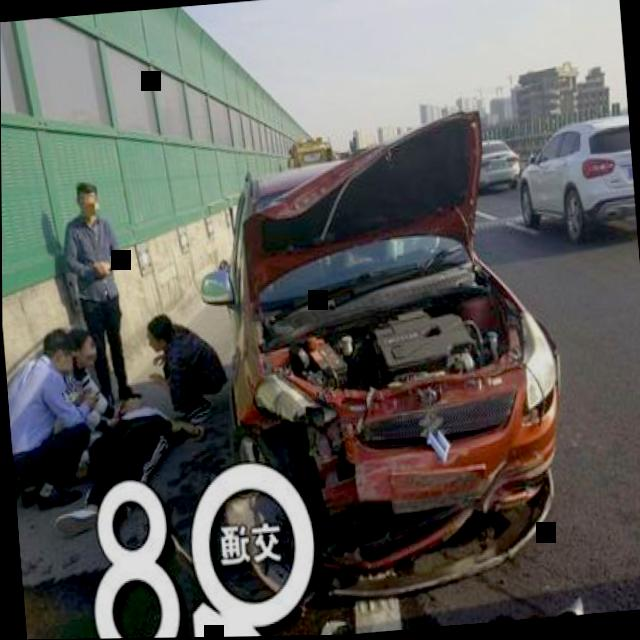Fall-Detected: (34, 382, 217, 542)
